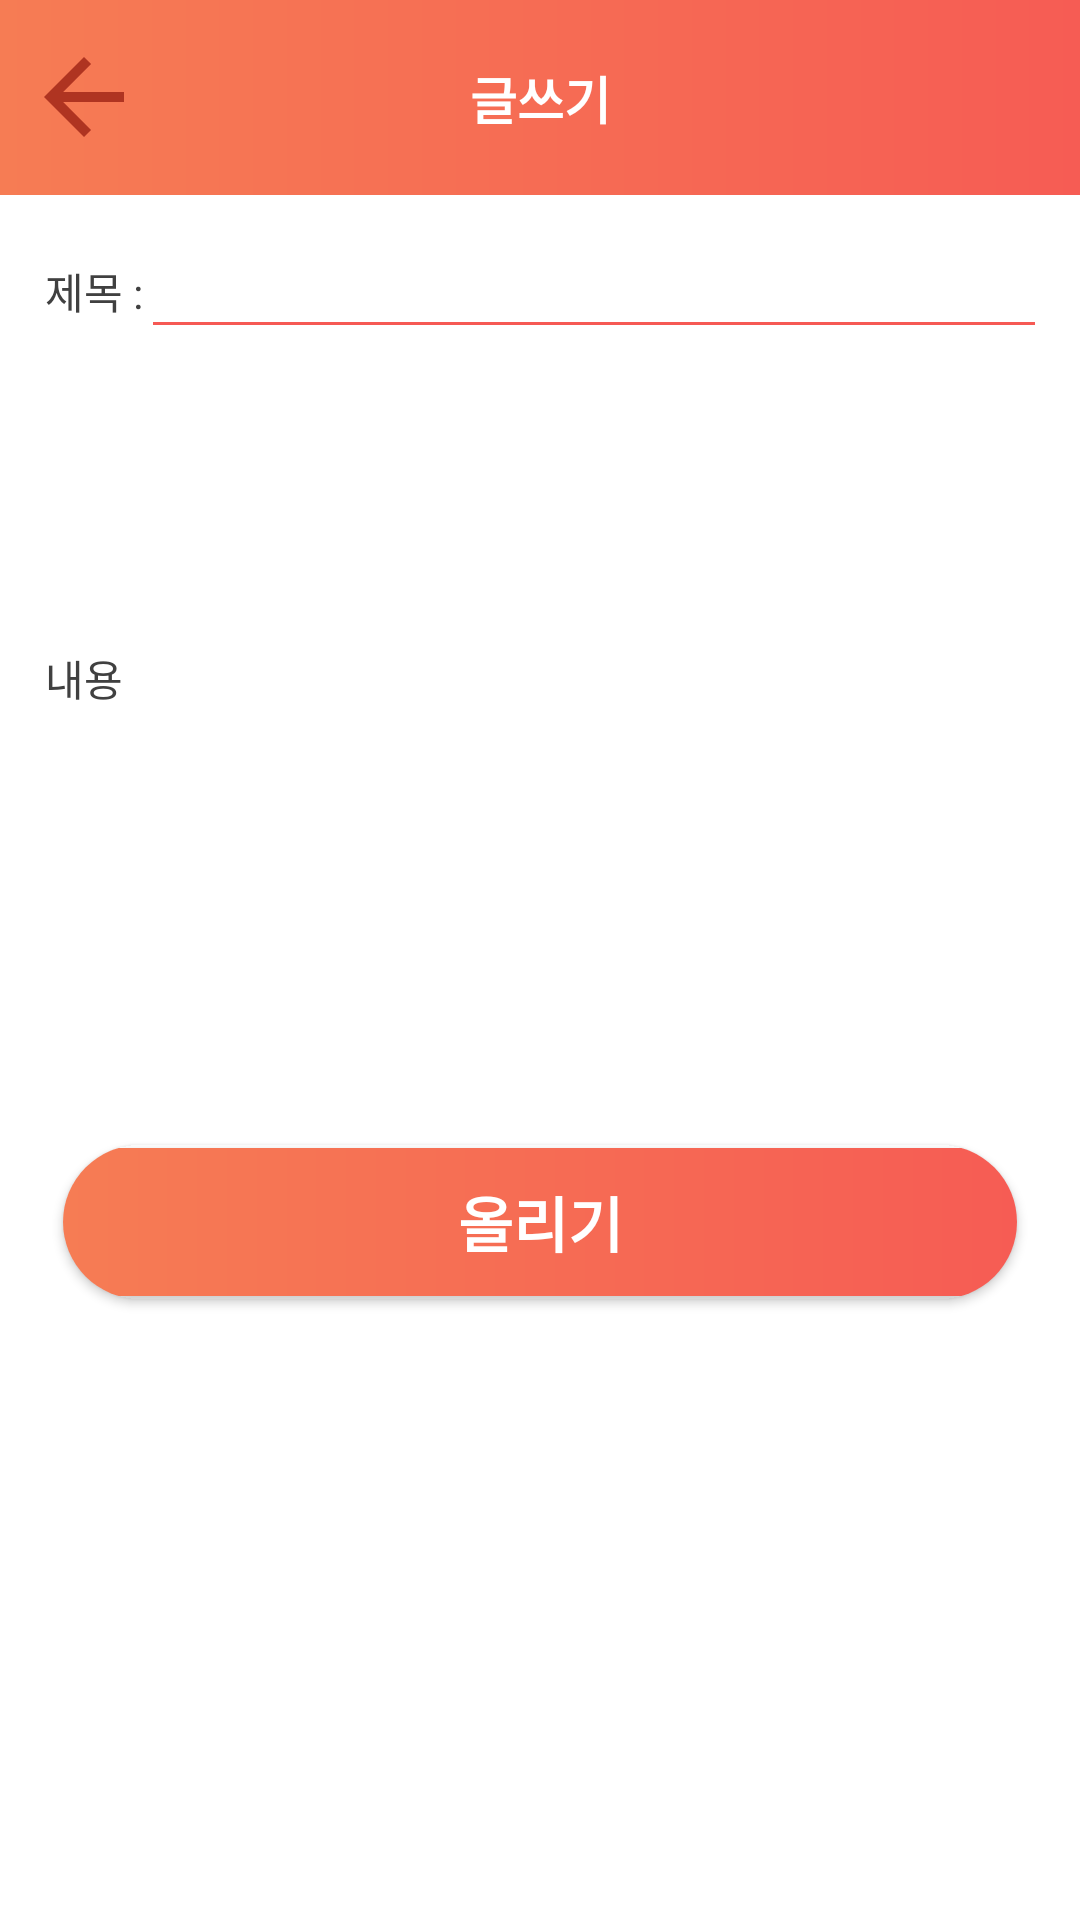

Point at icon controls on the screen. Image size 1080*1920, points as (x=x, y=y).
back: (x=84, y=97)
